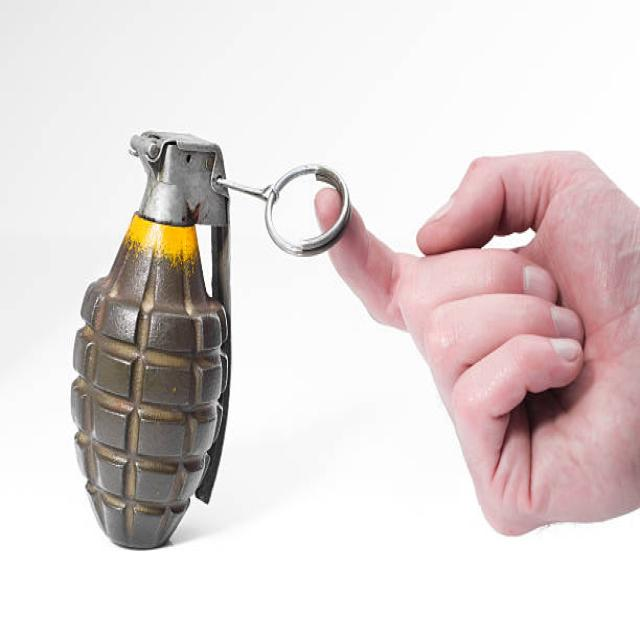grenade: (60, 116, 360, 555)
